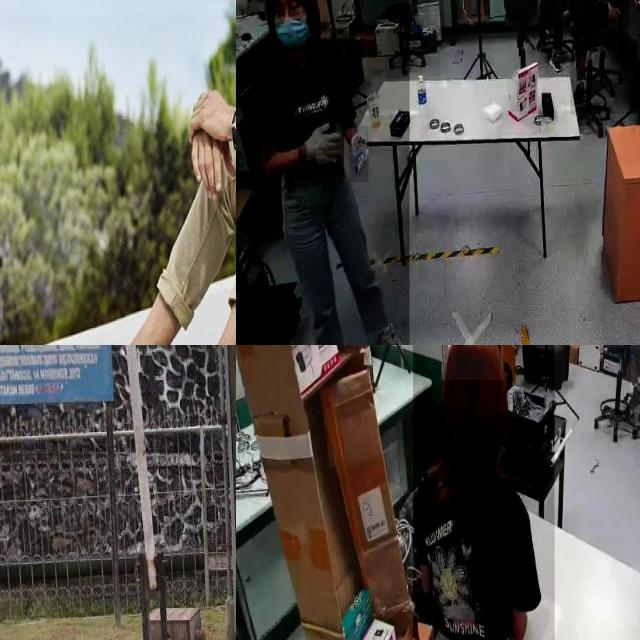face_mask: (270, 0, 314, 53)
hand_glove: (298, 116, 344, 176), (349, 126, 369, 182)
head_nohelmet: (441, 345, 504, 380)
person: (236, 0, 410, 345), (413, 345, 555, 640), (570, 0, 640, 114), (540, 0, 573, 60)
shoes: (370, 311, 410, 345)
